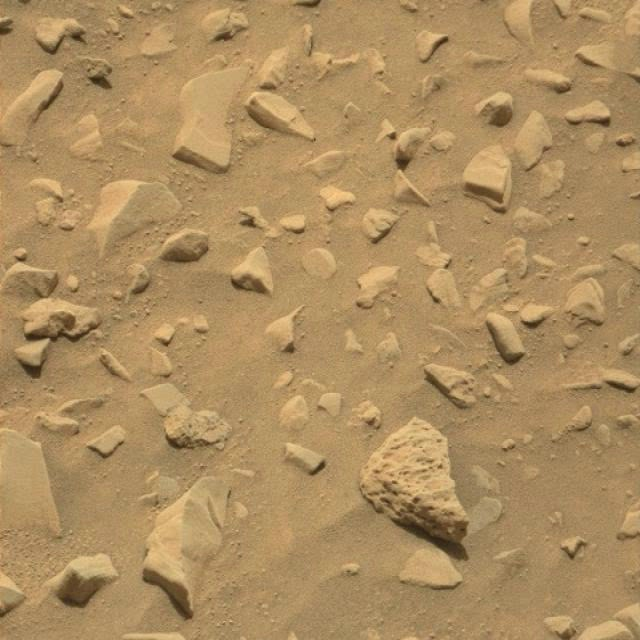rock: (360, 414, 470, 544), (142, 477, 230, 615), (172, 67, 252, 173), (86, 181, 181, 260), (392, 498, 468, 560), (43, 555, 120, 604), (463, 143, 513, 210), (143, 570, 193, 620), (58, 574, 104, 608), (427, 373, 452, 400), (18, 359, 45, 378), (607, 381, 635, 393)
